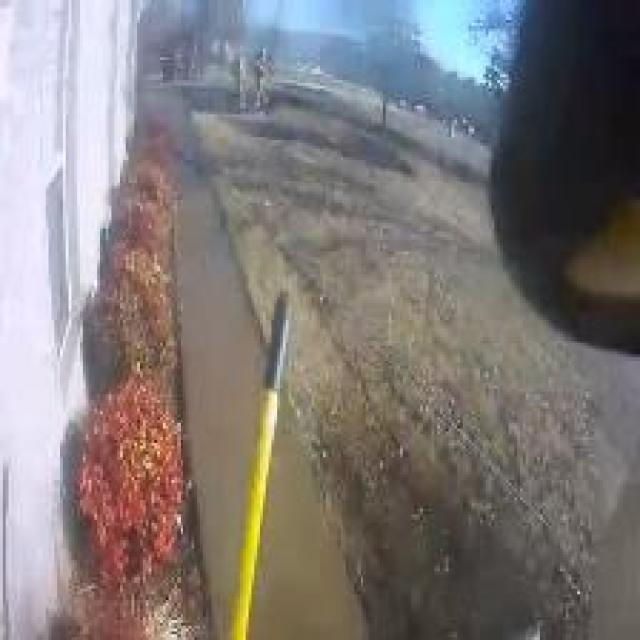other: (83, 342, 188, 542), (232, 372, 274, 622)
